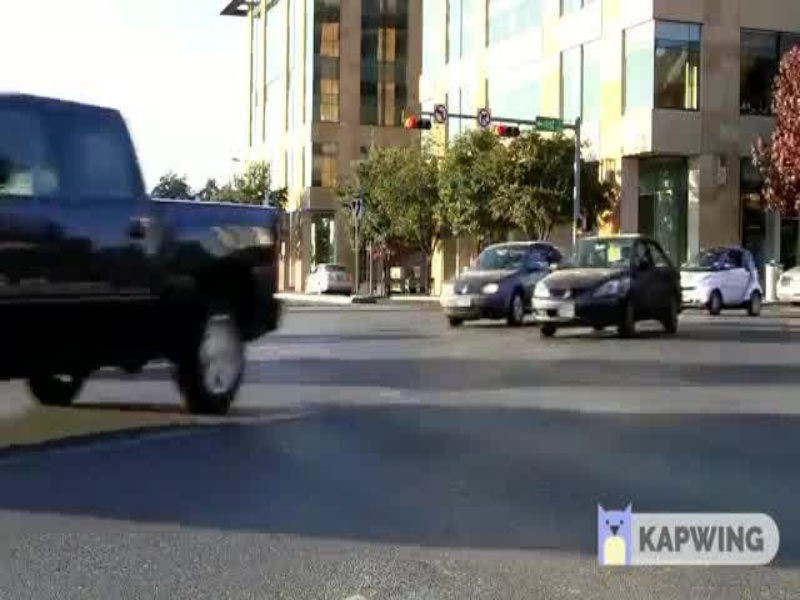car: (525, 233, 666, 345), (436, 232, 543, 332), (682, 244, 772, 321)
truck: (1, 92, 290, 449)
